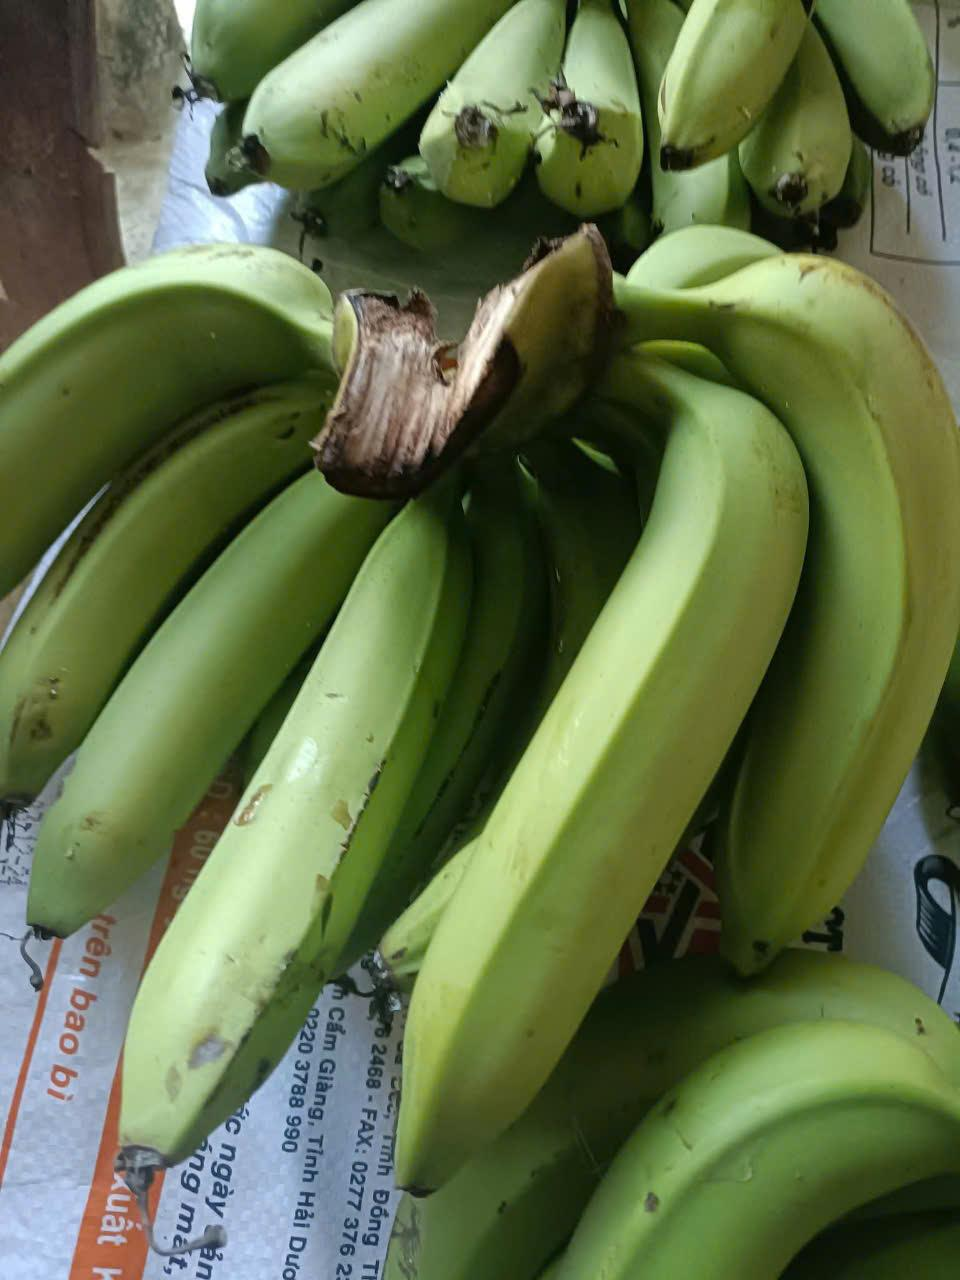banana: (477, 183, 943, 1068), (3, 203, 430, 1162), (270, 0, 960, 243)
